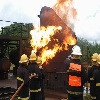fire: (30, 0, 77, 64)
